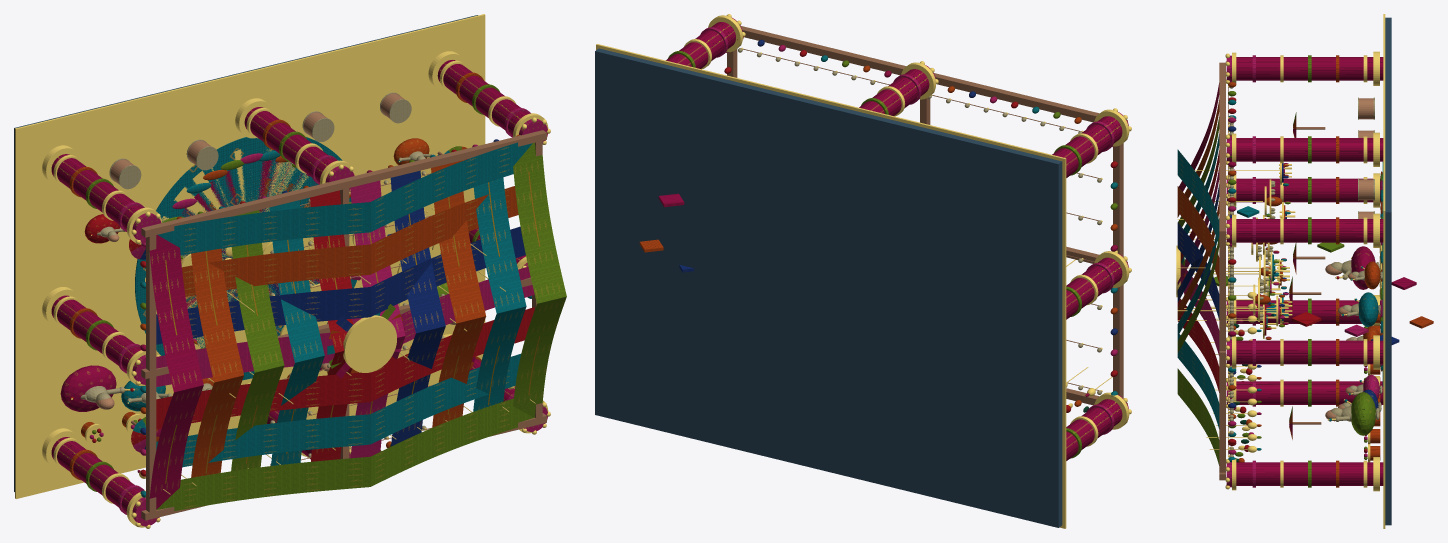
File: rangtal_garba_pavilion_v2.glb
The picture shows the model from 3 angles, left to right: view 1: azimuth 30°, elevation 25°; view 2: azimuth 150°, elevation 25°; view 3: azimuth 270°, elevation 25°; orthographic projection. The views are drawn at different scales.
Visible parts, largest first — view 1: stage_border, rangoli_ring_6.0, canopy_left_0, canopy_left_6, canopy_left_1, canopy_left_5, canopy_right_0, canopy_right_6, canopy_back_9, canopy_back_0, beam_front_7, canopy_back_1 (+36 smaller); view 2: ground, stage_border, beam_front_7, beam_side_-10, pillar_3, pillar_0, pillar_6, pillar_4, pillar_5; view 3: ground, pillar_7, pillar_2, pillar_3, pillar_4, pillar_5, pillar_6, pillar_1, pillar_0, beam_side_10, stage_border, beam_front_7 (+21 smaller).
Boxes of the visible parts, box(x1,y1,x2,y2) form: stage_border: box(15, 14, 485, 498); rangoli_ring_6.0: box(135, 137, 356, 380); canopy_left_0: box(156, 456, 370, 510); canopy_left_6: box(157, 202, 370, 255); canopy_left_1: box(156, 414, 370, 467); canopy_left_5: box(182, 244, 370, 296); canopy_right_0: box(370, 398, 533, 486); canopy_right_6: box(370, 142, 532, 232); canopy_back_9: box(513, 142, 566, 303); canopy_back_0: box(148, 235, 203, 392); beam_front_7: box(141, 130, 546, 237); canopy_back_1: box(191, 248, 243, 382); ground: box(595, 48, 1062, 527); stage_border: box(596, 44, 1066, 528); beam_front_7: box(741, 26, 1127, 122); beam_side_-10: box(1113, 143, 1123, 398); pillar_3: box(1052, 116, 1122, 177); pillar_0: box(1066, 399, 1122, 460); pillar_6: box(1066, 257, 1122, 319); pillar_4: box(859, 69, 929, 115); pillar_5: box(666, 22, 735, 68); ground: box(1385, 17, 1391, 525); pillar_7: box(1236, 340, 1383, 364); pillar_2: box(1236, 462, 1383, 485); pillar_3: box(1236, 57, 1383, 80); pillar_4: box(1236, 138, 1383, 161); pillar_5: box(1236, 219, 1383, 242); pillar_6: box(1236, 178, 1380, 202); pillar_1: box(1236, 381, 1383, 404); pillar_0: box(1236, 300, 1380, 323); beam_side_10: box(1219, 237, 1225, 472); stage_border: box(1383, 14, 1385, 528); beam_front_7: box(1219, 62, 1225, 236).
Size of the model in its own units: 24.3 by 18.3 by 13.41.
Materials: 14 (10 with a texture image).
